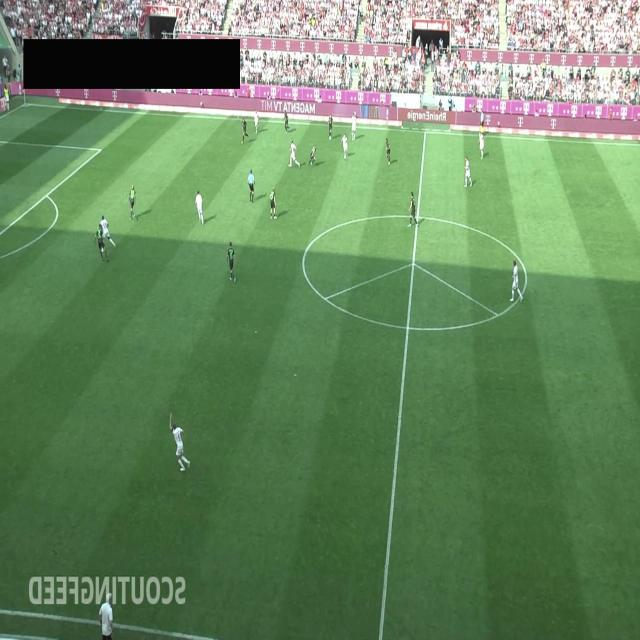ball: (344, 155, 346, 160)
player: (168, 412, 190, 472), (94, 224, 109, 262), (100, 215, 116, 248), (510, 260, 522, 302), (226, 242, 237, 282), (408, 191, 418, 228), (288, 140, 300, 169), (195, 190, 204, 226), (128, 183, 136, 220), (464, 156, 472, 188), (240, 118, 249, 144), (308, 144, 318, 166), (270, 186, 276, 219), (253, 108, 260, 134), (479, 130, 485, 160), (342, 132, 348, 160), (351, 111, 356, 142), (386, 138, 391, 165), (328, 114, 333, 140), (284, 111, 290, 131)
referee: (248, 169, 255, 203), (479, 108, 485, 136)
